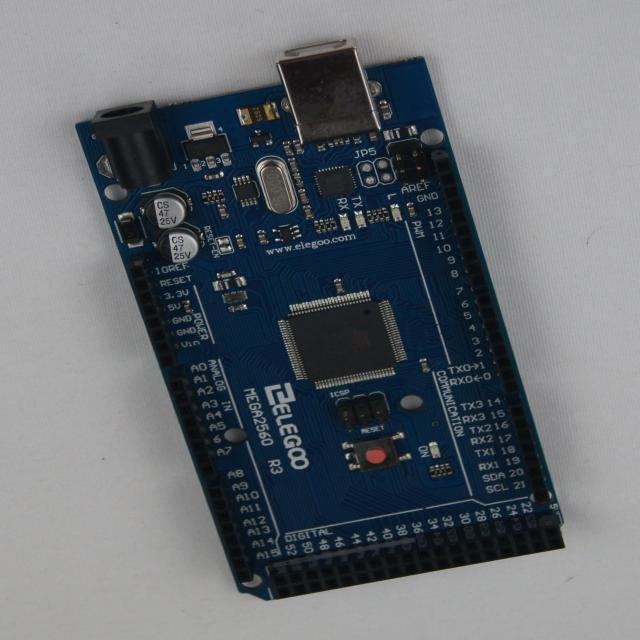Arduino Mega 2560 -Blue-: (77, 42, 564, 600)
